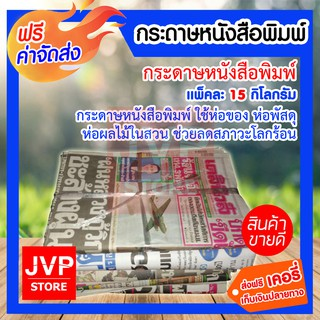news_paper: (1, 5, 317, 318)
